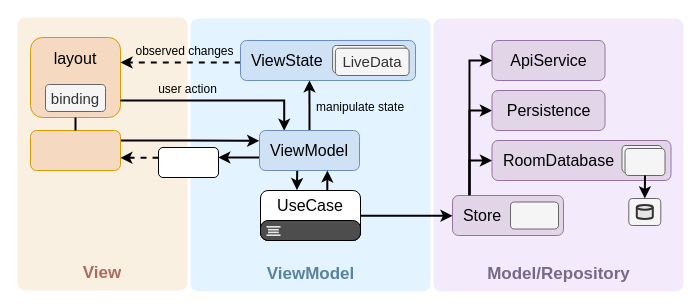
This 700x308 diagram has some shape labels left out. The shapes that lost their labels are listed below. From the top down, each one's centre as x and y in pixels, then its label:
the point at 75,150: Activity
the point at 188,162: Event
the point at 644,162: Dao
the point at 310,230: BG thread
the point at 534,215: Relay
